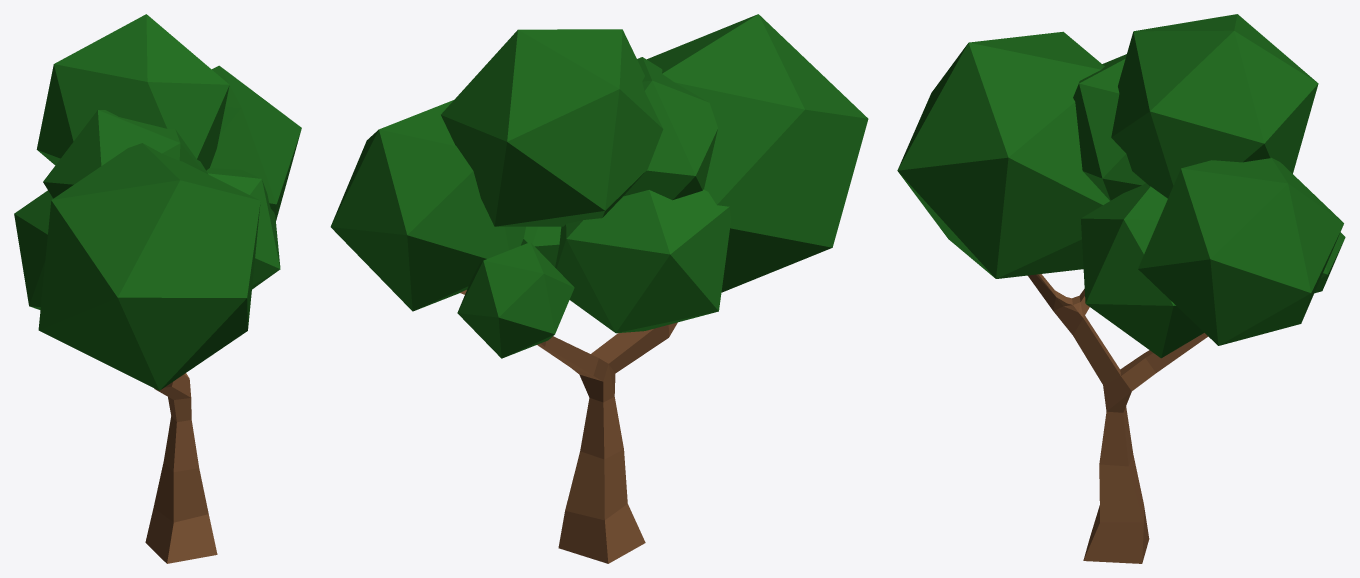
File: tree_oak.glb
3 views of the same model, side by side, from view 1: azimuth 30°, elevation 25°; view 2: azimuth 150°, elevation 25°; view 3: azimuth 270°, elevation 25° (orthographic). The views are drawn at different scales.
Visible parts, largest first — view 1: Oak; view 2: Oak; view 3: Oak.
Part boxes in pixels (x1,y1,x2,y2): Oak: [14, 14, 301, 563]; Oak: [330, 14, 868, 563]; Oak: [897, 14, 1345, 563].
Size of the model in its own units: 4.64 by 6.44 by 4.94.
